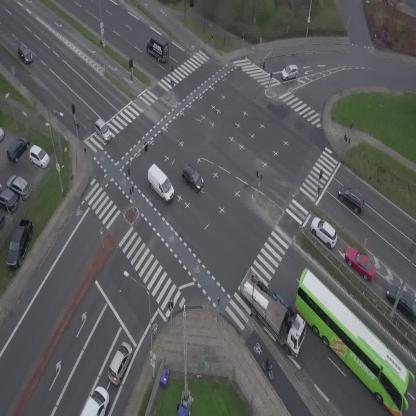bicycle: (260, 356, 275, 380)
car: (340, 241, 382, 285), (103, 339, 137, 386), (333, 180, 371, 217), (305, 213, 343, 250), (81, 383, 116, 416), (178, 163, 209, 193), (90, 117, 116, 144), (14, 43, 35, 66), (279, 63, 300, 81)
lorry: (229, 262, 319, 363), (140, 162, 181, 205), (142, 32, 176, 65)
